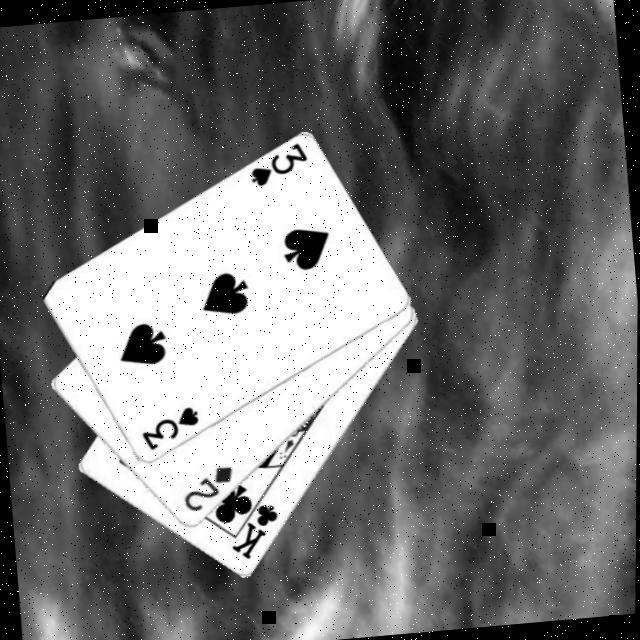2D: (180, 464, 240, 517)
3S: (140, 404, 206, 456), (248, 141, 314, 192)
KC: (227, 490, 287, 566)
